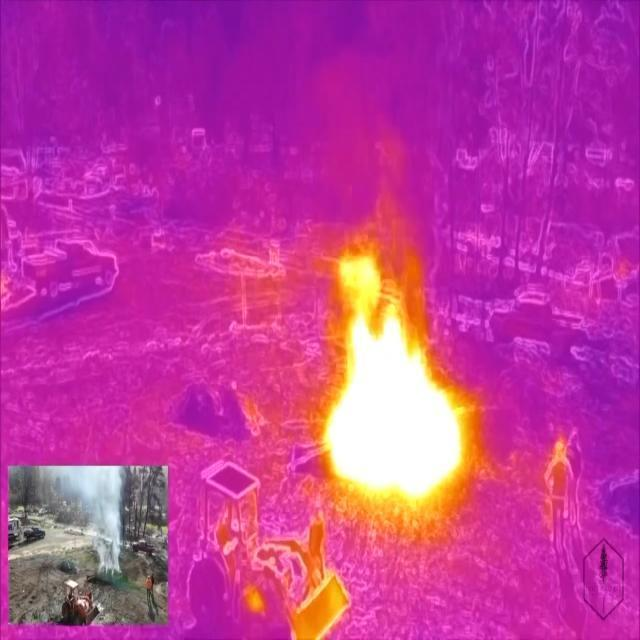fire: (327, 297, 469, 511)
